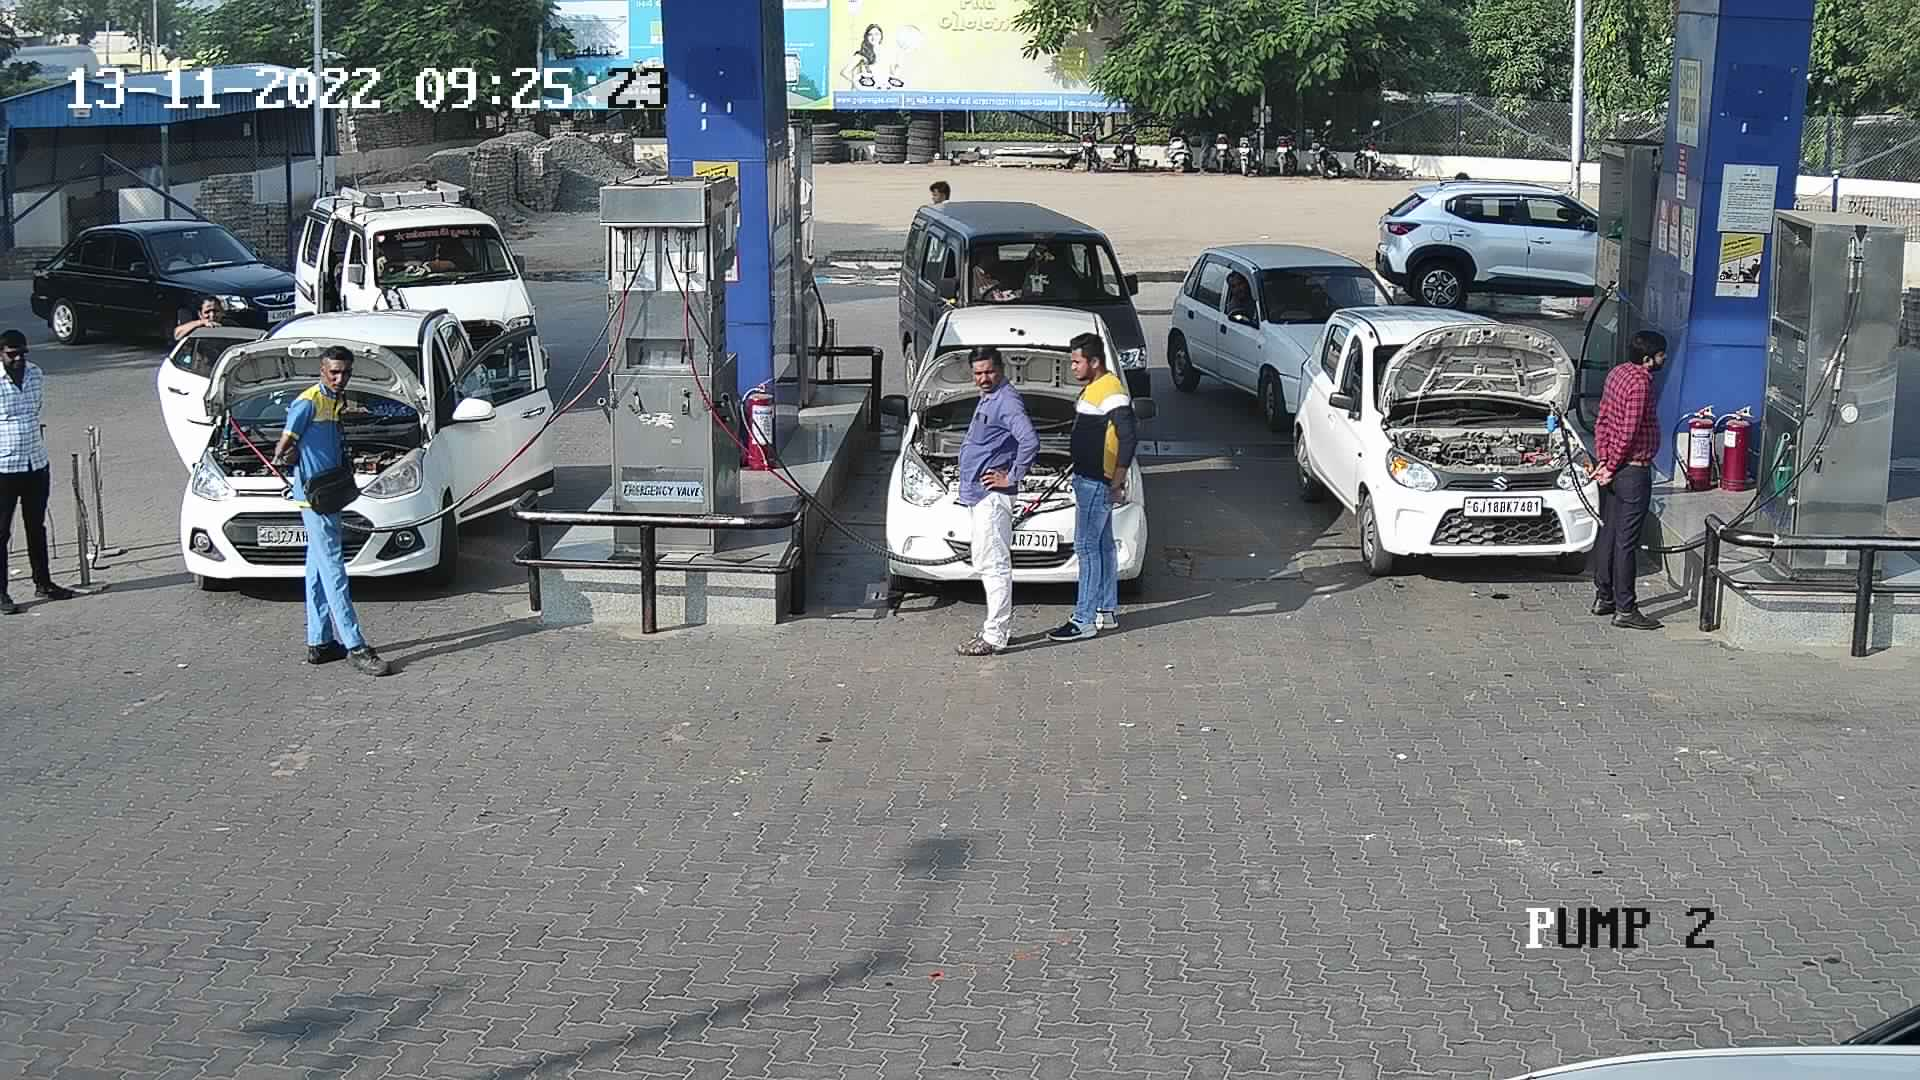Bike: (1303, 109, 1346, 171), (1348, 116, 1385, 181), (1164, 113, 1203, 173), (1269, 116, 1303, 179), (1109, 107, 1145, 167), (1076, 109, 1110, 166), (1238, 107, 1265, 179), (1209, 116, 1236, 171)
Car: (146, 290, 567, 600), (1284, 297, 1614, 583), (868, 295, 1159, 611), (890, 196, 1139, 427), (282, 177, 549, 382), (1158, 231, 1407, 427), (20, 199, 309, 355), (1371, 166, 1631, 316)
Others: (264, 339, 396, 680)
